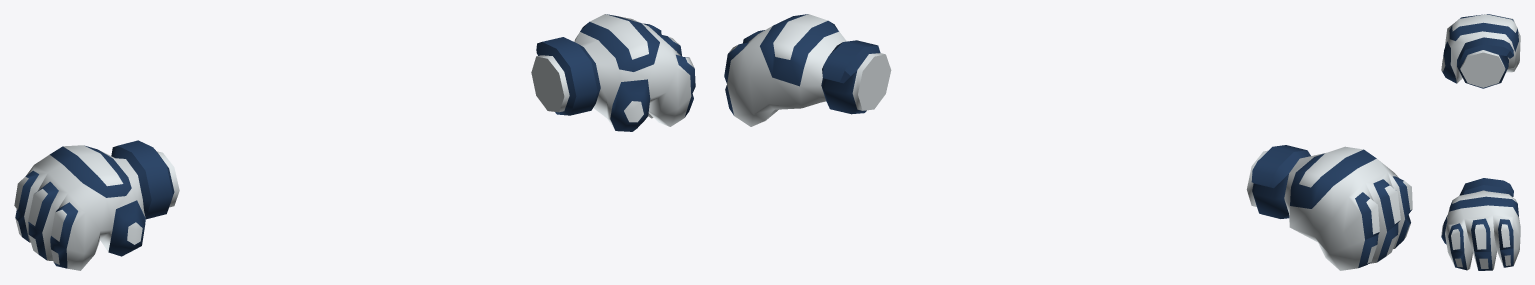
File: Glove_15.fbx
3 renders of one model, left to right at view 1: azimuth 30°, elevation 25°; view 2: azimuth 150°, elevation 25°; view 3: azimuth 270°, elevation 25°, orthographic. The views are drawn at different scales.
Parts seen in each view (by area): view 1: Glove_15; view 2: Glove_15; view 3: Glove_15.
Part boxes in pixels (box(x1,y1,x2,y2)): Glove_15: box(14, 14, 695, 270); Glove_15: box(724, 14, 1412, 270); Glove_15: box(1441, 14, 1520, 270).
Size of the model in its own units: 136 by 19.77 by 21.27.
